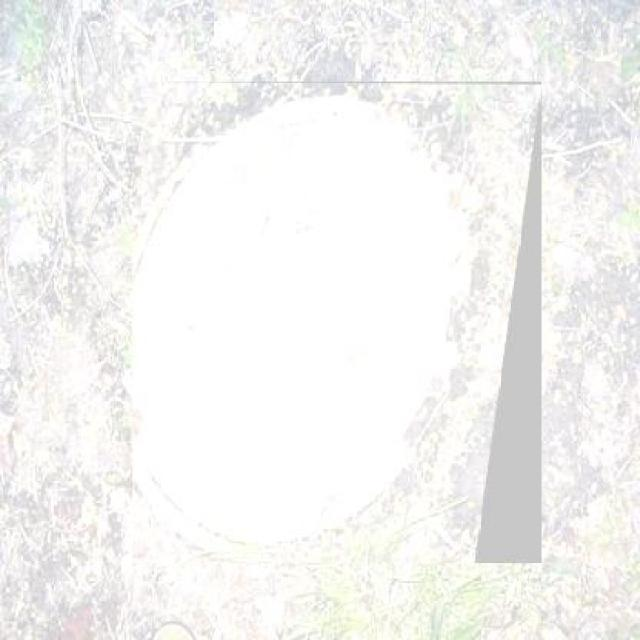Manhole: (133, 81, 542, 564)
